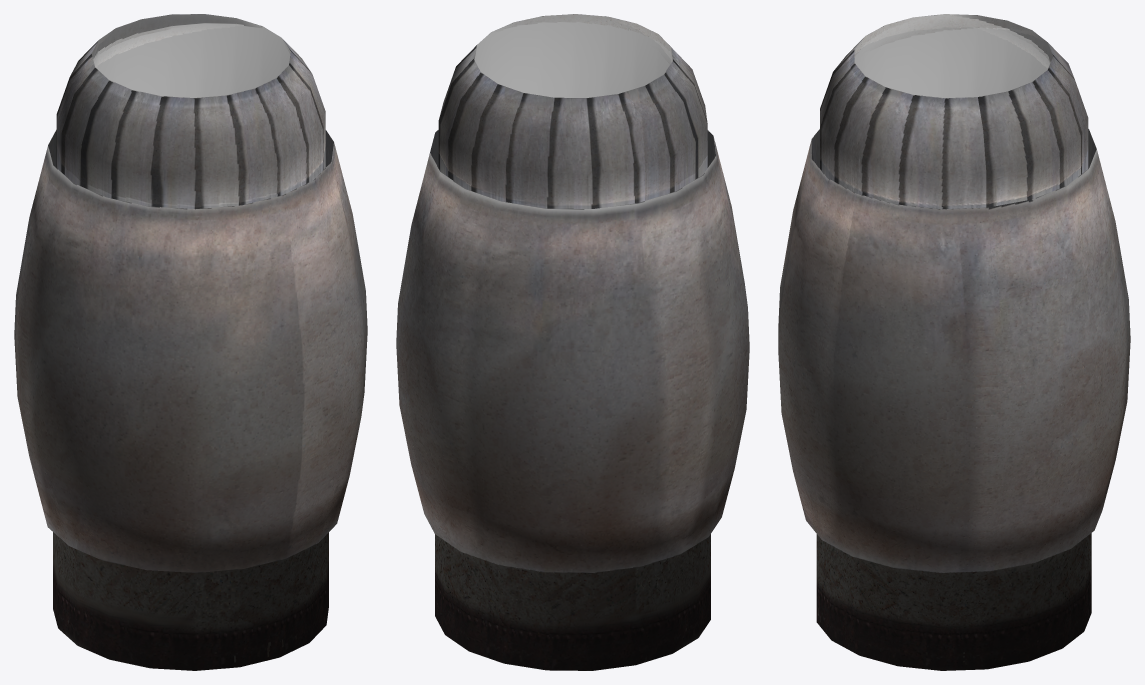
The model's file is Engine.fbx.
3 renders of one model, left to right at view 1: azimuth 30°, elevation 25°; view 2: azimuth 150°, elevation 25°; view 3: azimuth 270°, elevation 25°, orthographic.
Parts seen in each view (by area): view 1: Cylinder; view 2: Cylinder; view 3: Cylinder.
Boxes of the visible parts, <box> form: Cylinder: <box>14,14,367,670</box>; Cylinder: <box>396,14,749,670</box>; Cylinder: <box>778,14,1130,670</box>.
Size of the model in its own units: 2.55 by 4.43 by 2.54.
